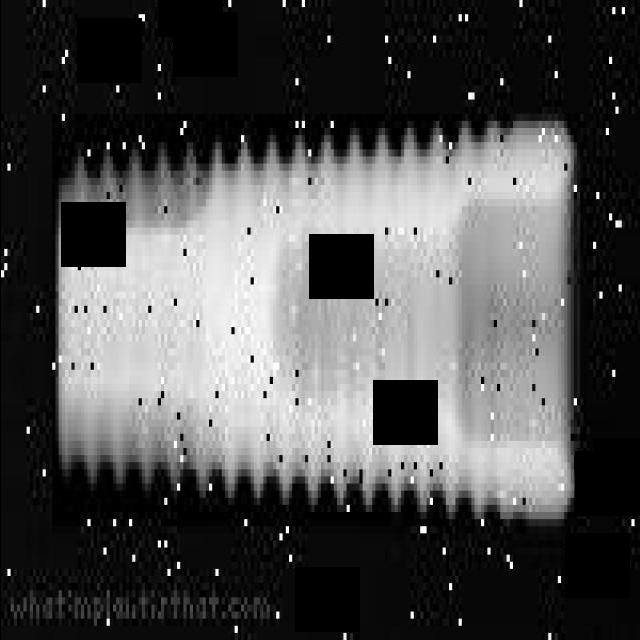Root canal filling: (51, 114, 576, 526)
